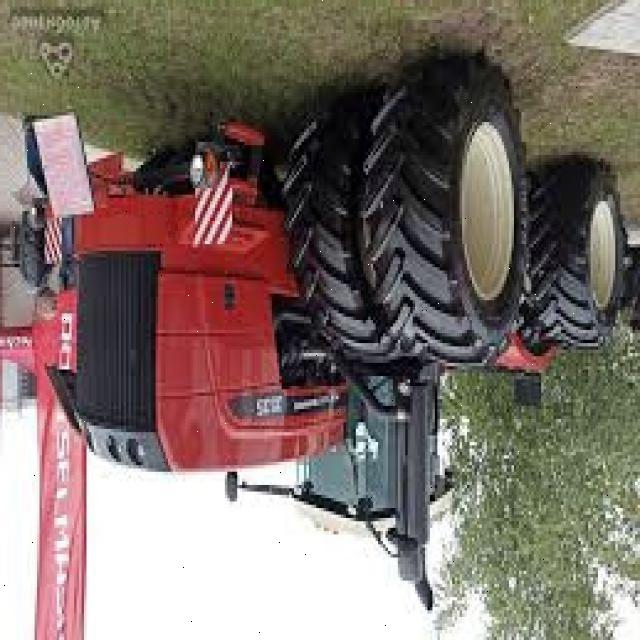Tratores - v5 YOLO V8L 2024-11-13: (50, 0, 610, 593)
